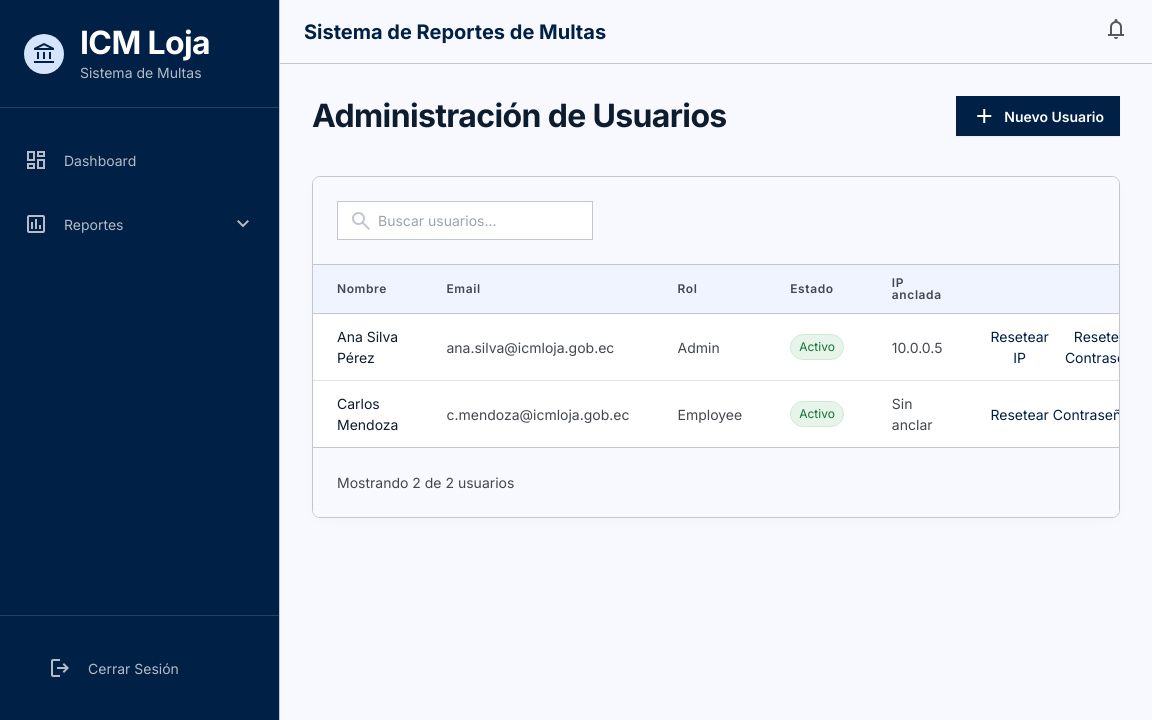
AdministracionUsuariosComponent › opens the reset-password modal for the clicked row
The width and height of the screenshot is (1152, 720).
What coordinates should you click on to do the following:
click the button with test id "resetear-clave-btn" in the row of "Ana Silva Pérez"
I would click on:
 (1103, 347)
Its box is x1=1065 y1=326 x2=1141 y2=368.
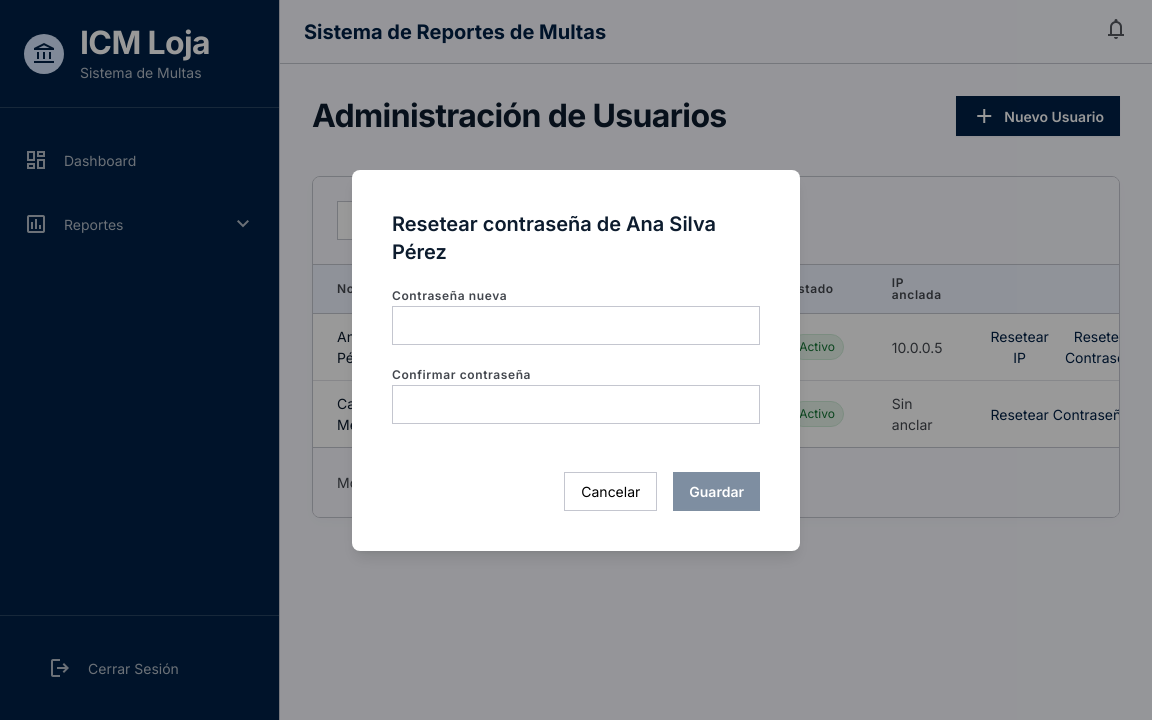
Now the text "Resetear contraseña de Ana Silva Pérez" is shown, box x1=392 y1=210 x2=760 y2=266
